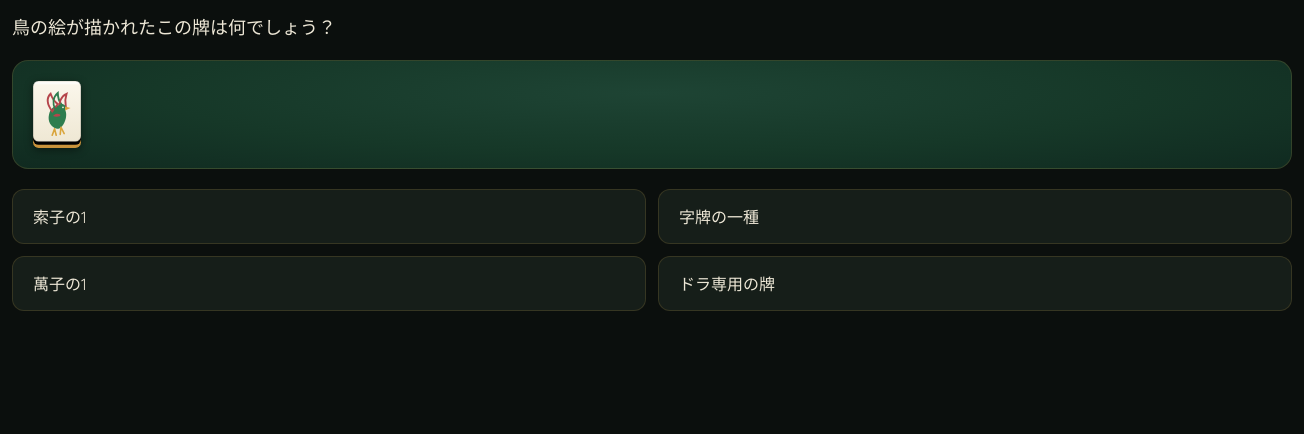
it: ChoiceQuizStepView › 正答で解説が表示され以降のタップは無視される
The width and height of the screenshot is (1304, 434).
Click the button "索子の1" at (60, 216), box [12,189,646,244]
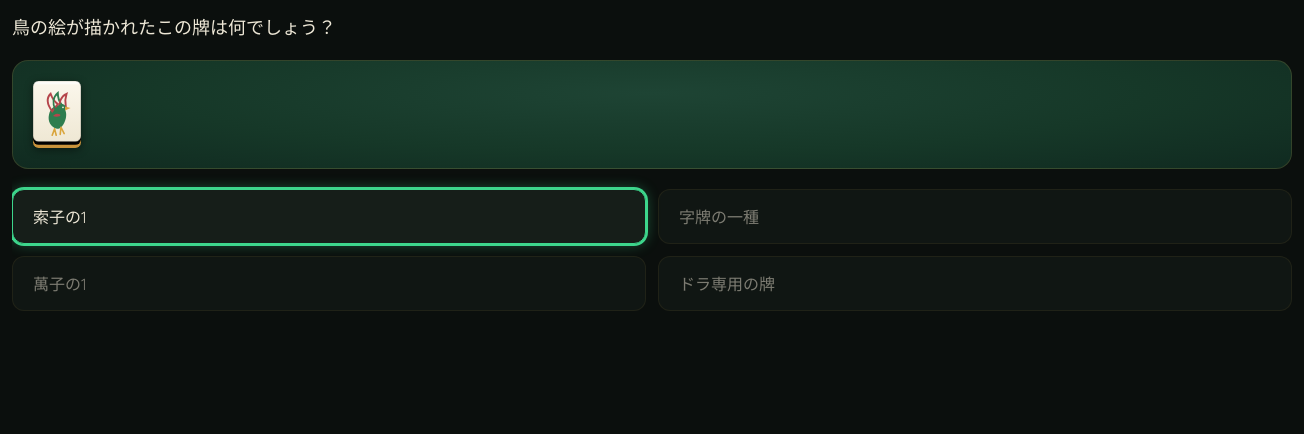
Click the button "字牌の一種" at (719, 216), box [658,189,1292,244]
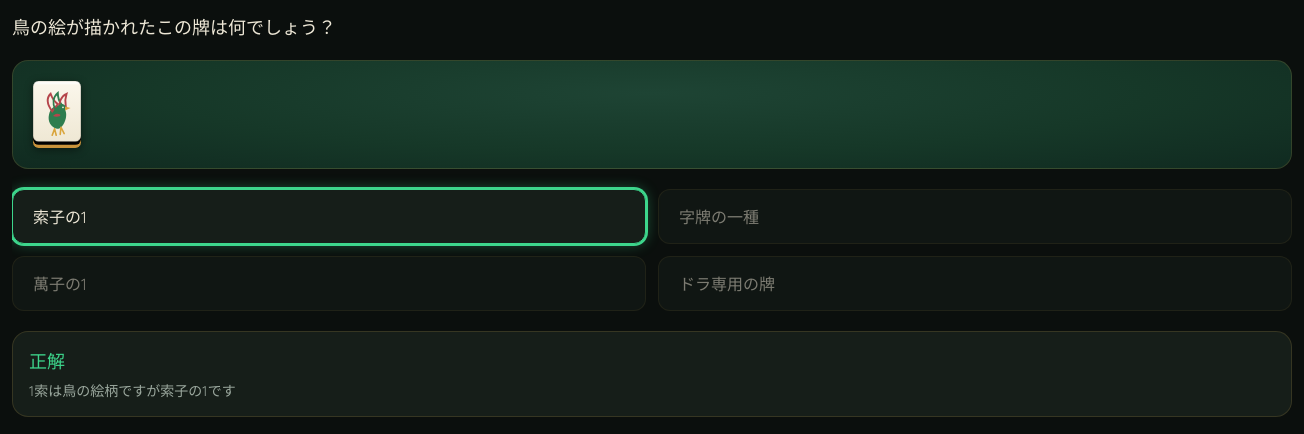
Expected: the text "正解" is shown, [29,352,65,372]
